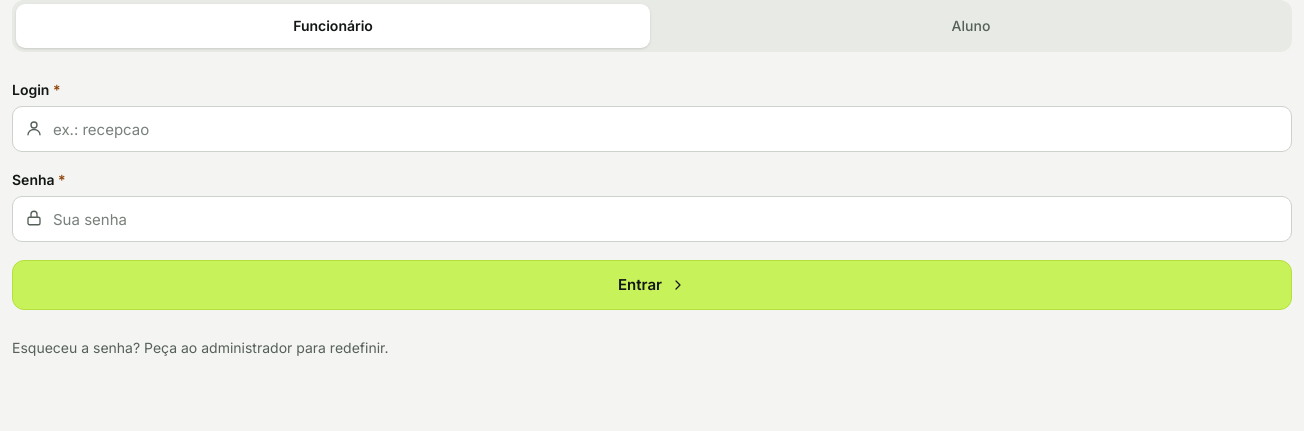
Test: FormLogin › troca para CPF e senha ao clicar em Aluno
Click the tab "Aluno". click: click(971, 26)
box: left=654, top=4, right=1288, bottom=48
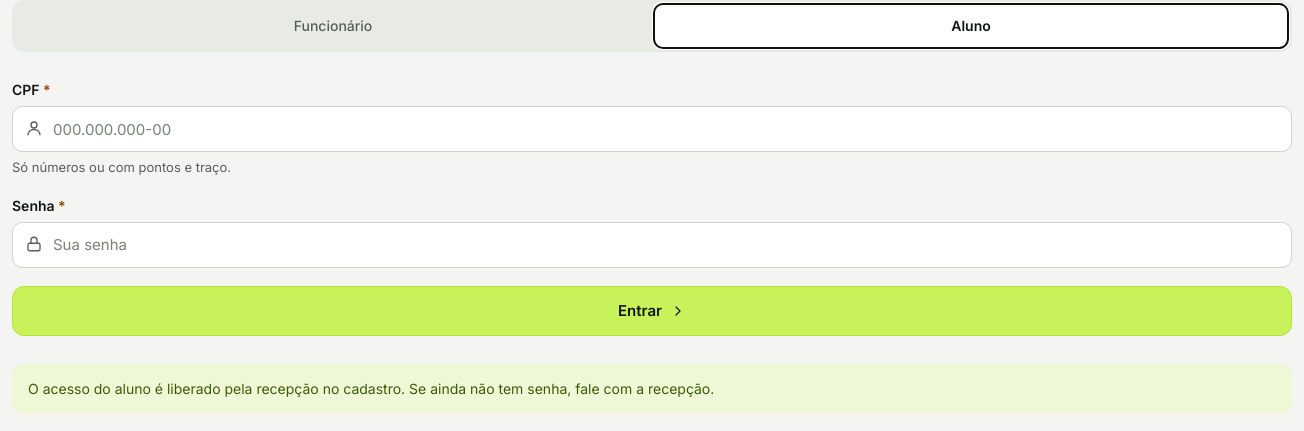
Check: the password field labelled "Senha" is shown, box left=12, top=222, right=1292, bottom=268
Check: the label labelled "Login" is gone
